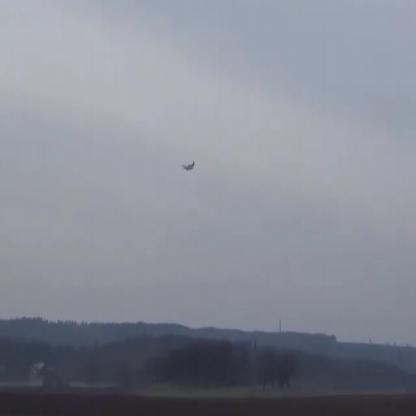CIV_Plane: (180, 162, 196, 174)
